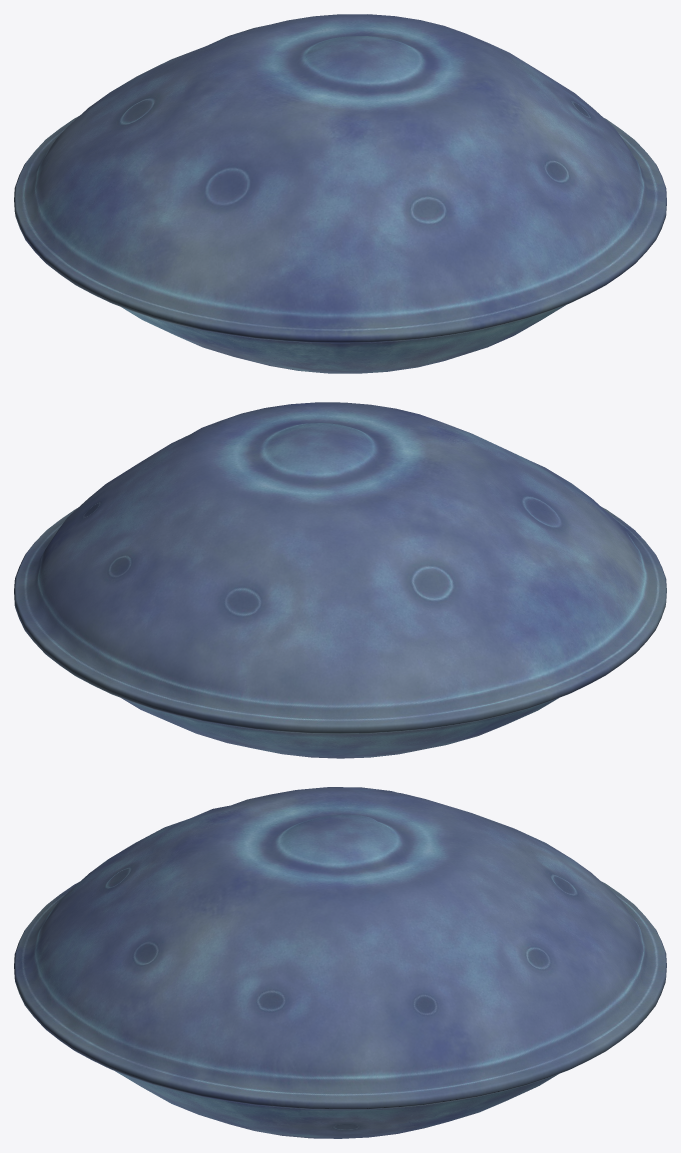
File: hand_pan.glb
The picture shows the model from 3 angles, top to bottom: view 1: azimuth 30°, elevation 25°; view 2: azimuth 150°, elevation 25°; view 3: azimuth 270°, elevation 25°; orthographic projection.
Visible parts, largest first — view 1: g; view 2: g; view 3: g.
Part boxes in pixels (left/top/right/bottom): g: left=14, top=14, right=666, bottom=373; g: left=14, top=402, right=666, bottom=758; g: left=14, top=787, right=666, bottom=1138.
Size of the model in its own units: 2 by 0.9154 by 2.
1 material, 1 textured.
